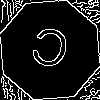C: (25, 25, 73, 79)
